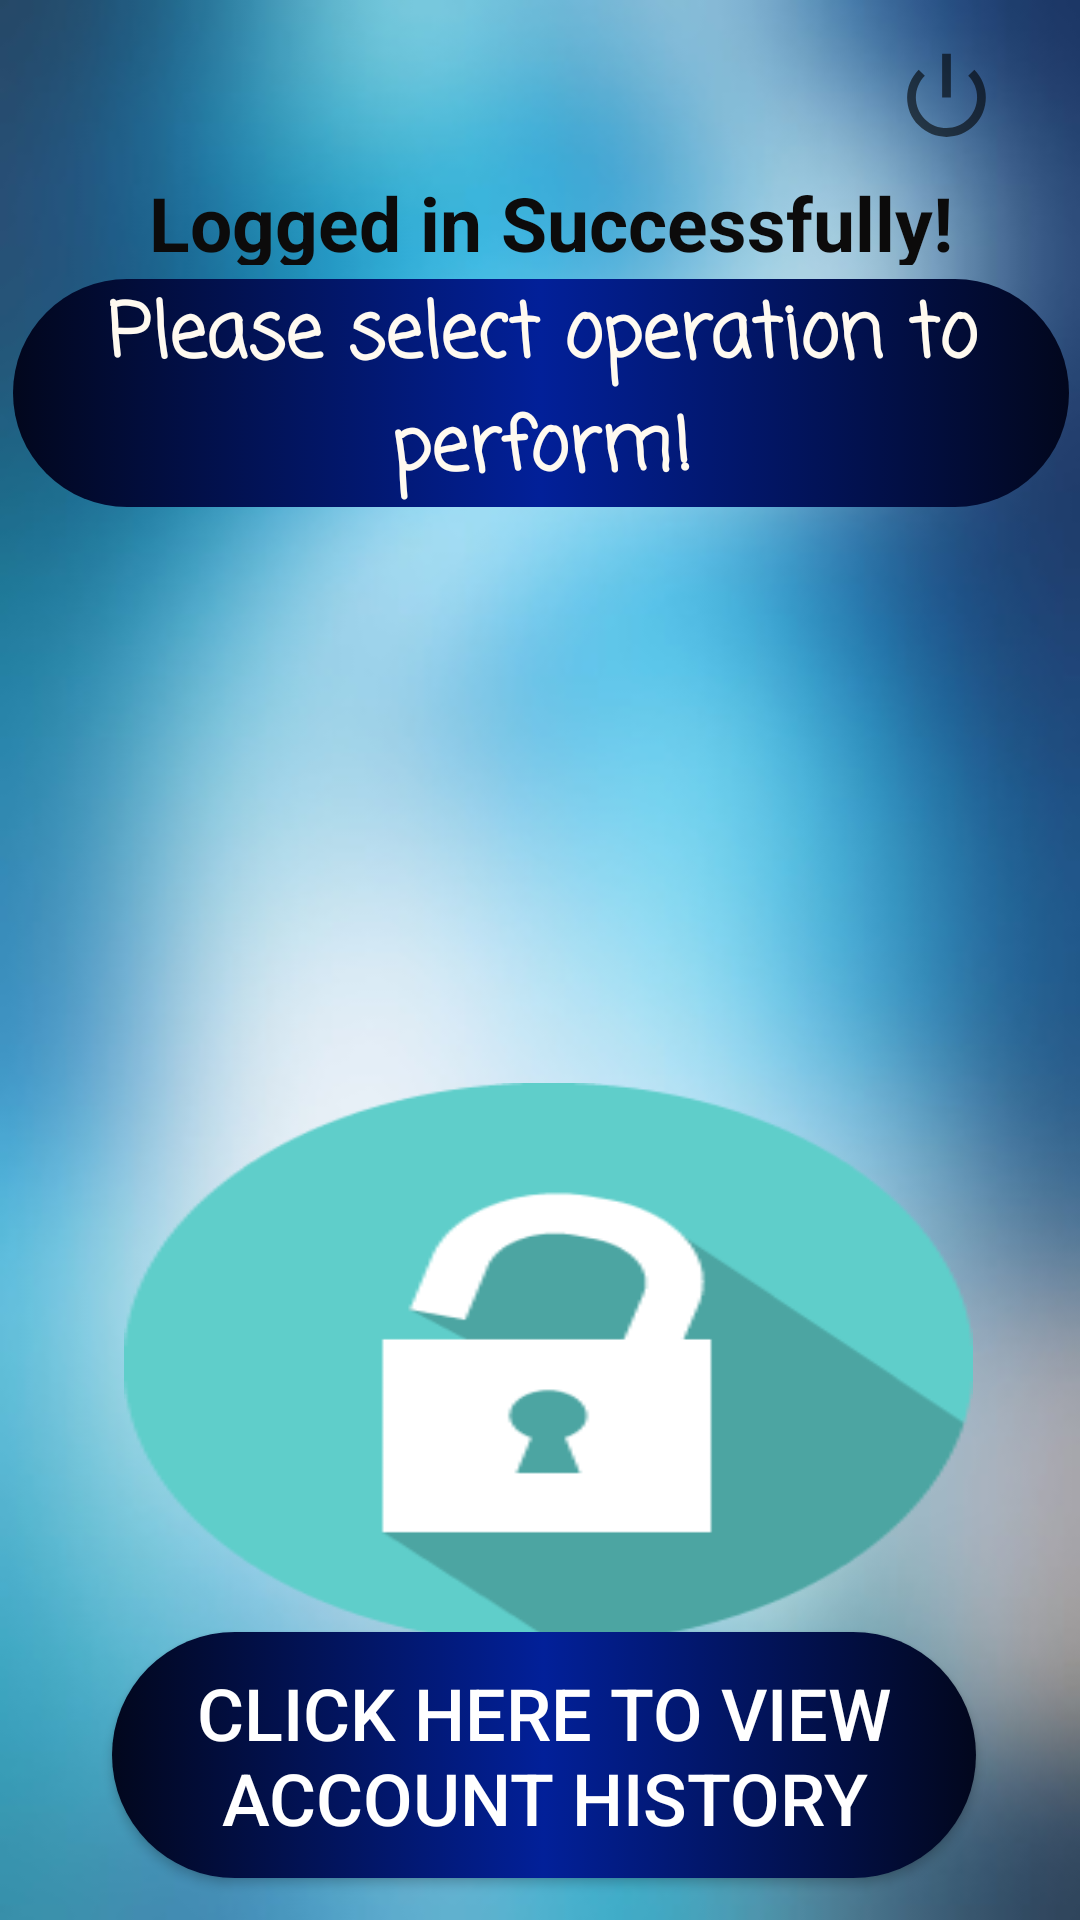

Icons on this 1080x1920 Android screen, each with the point to tap as (x,y):
lock power off: (946,97)
